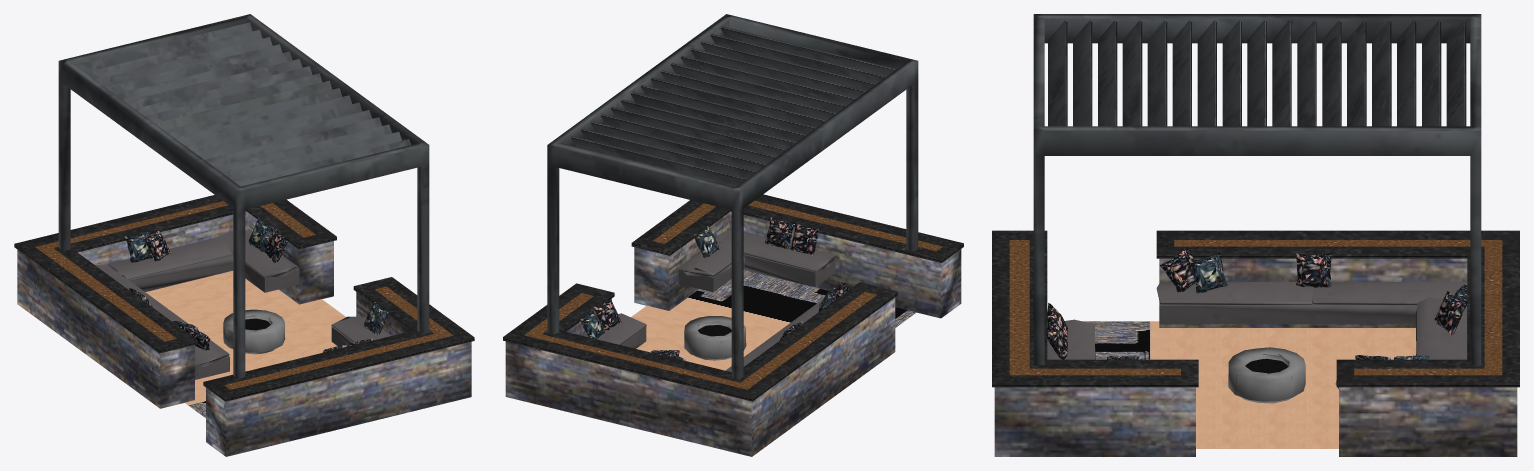
File: fab-uteplats.glb
The picture shows the model from 3 angles, left to right: view 1: azimuth 30°, elevation 25°; view 2: azimuth 150°, elevation 25°; view 3: azimuth 270°, elevation 25°; orthographic projection. The views are drawn at different scales.
Parts seen in each view (by area): view 1: uteplats; view 2: uteplats; view 3: uteplats.
Boxes of the visible parts, bbox=[...] form: uteplats: bbox=[14, 14, 474, 456]; uteplats: bbox=[503, 14, 963, 456]; uteplats: bbox=[992, 14, 1519, 456].
Size of the model in its own units: 14.31 by 13.57 by 20.98.
1 material, 1 textured.
